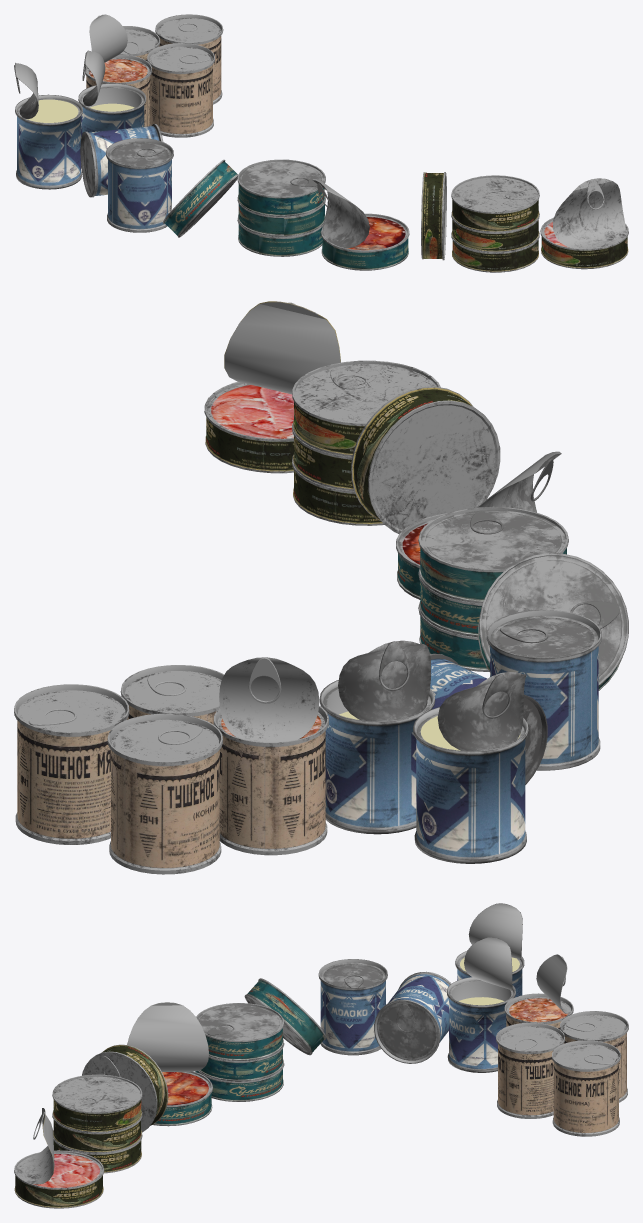
The model's file is soviet_old_tin_cans_milk_meat_fish.glb.
3 views of the same model, one above another, from view 1: azimuth 30°, elevation 25°; view 2: azimuth 150°, elevation 25°; view 3: azimuth 270°, elevation 25° (orthographic). The views are drawn at different scales.
Parts seen in each view (by area): view 1: Milk_can_opened.001, Fish01_can_opened, Milk_can, Meat_can, Fish00_can_opened, Fish01_can.002, Fish00_can.002, Milk_can_opened, Meat_can_opened, Milk_can.002, Meat_can.002, Fish00_can.003 (+6 smaller); view 2: Meat_can_opened, Milk_can_opened.001, Milk_can_opened, Meat_can.001, Fish01_can.003, Meat_can.002, Fish01_can_opened, Milk_can, Fish00_can.002, Fish00_can.003, Fish01_can.002, Meat_can (+6 smaller); view 3: Milk_can_opened, Fish00_can_opened, Meat_can.002, Milk_can, Meat_can, Milk_can.002, Fish01_can_opened, Fish01_can.002, Fish00_can.002, Fish01_can.003, Meat_can_opened, Milk_can_opened.001 (+6 smaller).
Boxes of the visible parts, left/top/right/bottom form: Milk_can_opened.001: left=14, top=62, right=82, bottom=189; Fish01_can_opened: left=540, top=178, right=628, bottom=269; Milk_can: left=106, top=138, right=173, bottom=232; Meat_can: left=147, top=43, right=214, bottom=137; Fish00_can_opened: left=312, top=179, right=409, bottom=270; Fish01_can.002: left=451, top=175, right=539, bottom=232; Fish00_can.002: left=237, top=159, right=325, bottom=216; Milk_can_opened: left=78, top=50, right=146, bottom=168; Meat_can_opened: left=84, top=14, right=152, bottom=126; Milk_can.002: left=80, top=124, right=163, bottom=197; Meat_can.002: left=155, top=14, right=223, bottom=104; Fish00_can.003: left=162, top=159, right=237, bottom=237; Meat_can_opened: left=213, top=657, right=328, bottom=855; Milk_can_opened.001: left=413, top=672, right=528, bottom=863; Milk_can_opened: left=319, top=640, right=435, bottom=834; Meat_can.001: left=107, top=713, right=222, bottom=874; Fish01_can.003: left=351, top=386, right=500, bottom=533; Meat_can.002: left=14, top=684, right=129, bottom=844; Fish01_can_opened: left=204, top=301, right=340, bottom=473; Milk_can: left=486, top=609, right=601, bottom=770; Fish00_can.002: left=418, top=506, right=568, bottom=603; Fish00_can.003: left=478, top=553, right=628, bottom=690; Fish01_can.002: left=292, top=360, right=440, bottom=456; Meat_can: left=120, top=665, right=223, bottom=724; Milk_can_opened: left=446, top=937, right=515, bottom=1072; Fish00_can_opened: left=127, top=1002, right=212, bottom=1126; Meat_can.002: left=551, top=1040, right=620, bottom=1136; Milk_can: left=318, top=959, right=387, bottom=1055; Meat_can: left=496, top=1022, right=564, bottom=1118; Milk_can.002: left=374, top=971, right=451, bottom=1063; Fish01_can_opened: left=14, top=1108, right=104, bottom=1208; Fish01_can.002: left=52, top=1074, right=142, bottom=1132; Fish00_can.002: left=196, top=1003, right=284, bottom=1060; Fish01_can.003: left=82, top=1044, right=168, bottom=1132; Meat_can_opened: left=504, top=954, right=573, bottom=1029; Milk_can_opened.001: left=455, top=903, right=524, bottom=997.
Size of the model in its own units: 7.24 by 1.98 by 9.59.
Materials: 4 (4 with a texture image).
